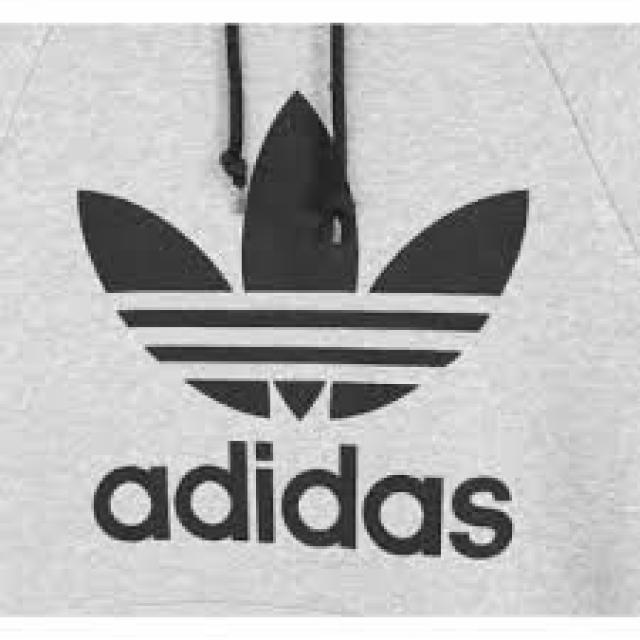Adidas: (49, 63, 541, 452)
